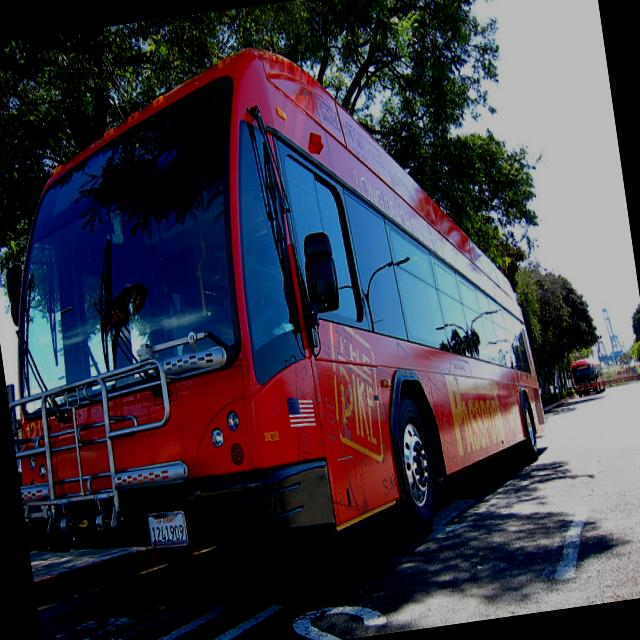Vehicle: (0, 14, 557, 593), (568, 355, 608, 398)
